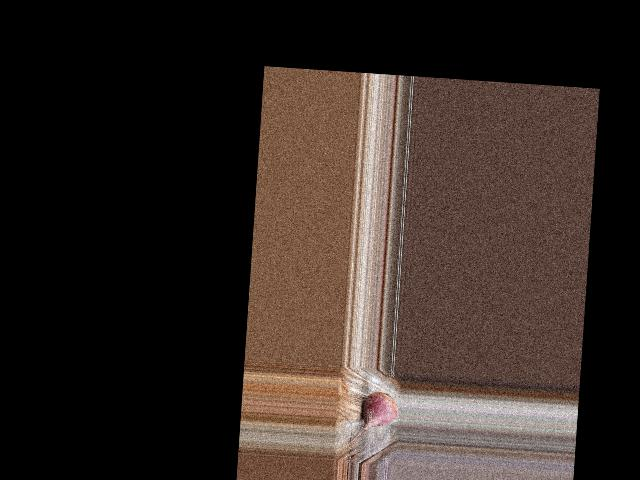beet: (349, 390, 399, 446)
